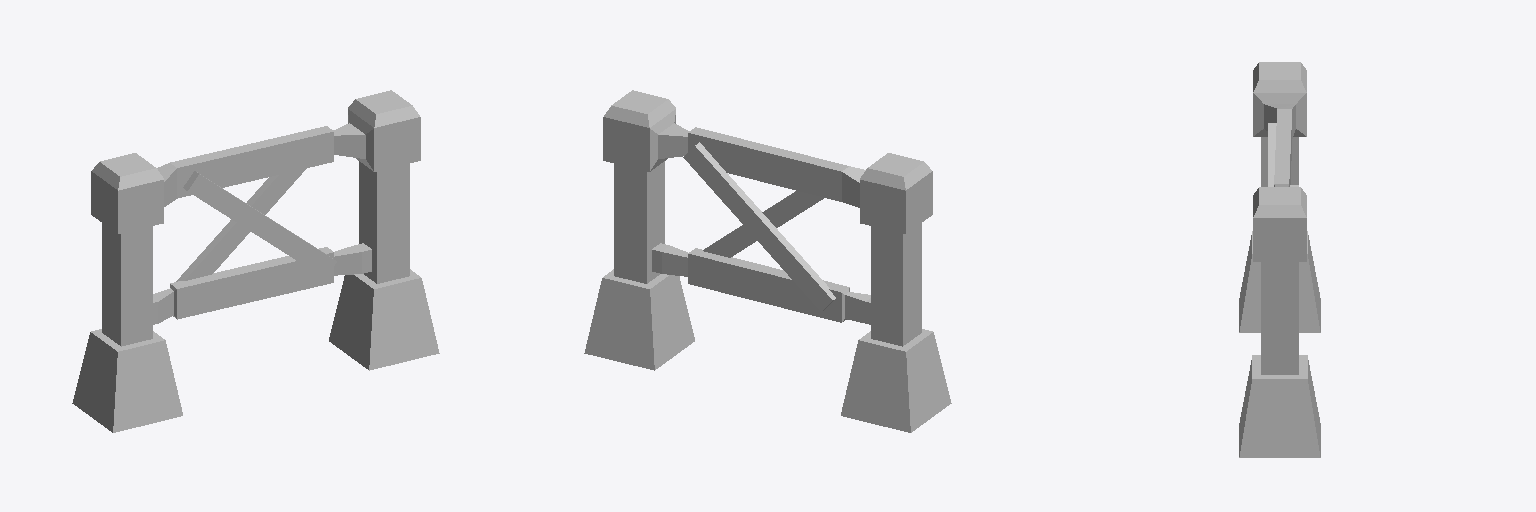
File: fence.obj
The picture shows the model from 3 angles: view 1: azimuth 30°, elevation 25°; view 2: azimuth 150°, elevation 25°; view 3: azimuth 270°, elevation 25°; orthographic projection.
Visible parts, largest first — view 1: Cube.001_Cube.002; view 2: Cube.001_Cube.002; view 3: Cube.001_Cube.002.
Boxes of the visible parts, x1=… form: Cube.001_Cube.002: x1=72, y1=90, x2=439, y2=432; Cube.001_Cube.002: x1=584, y1=90, x2=951, y2=432; Cube.001_Cube.002: x1=1239, y1=62, x2=1320, y2=457.
Size of the model in its own units: 0.9266 by 0.6639 by 0.2.